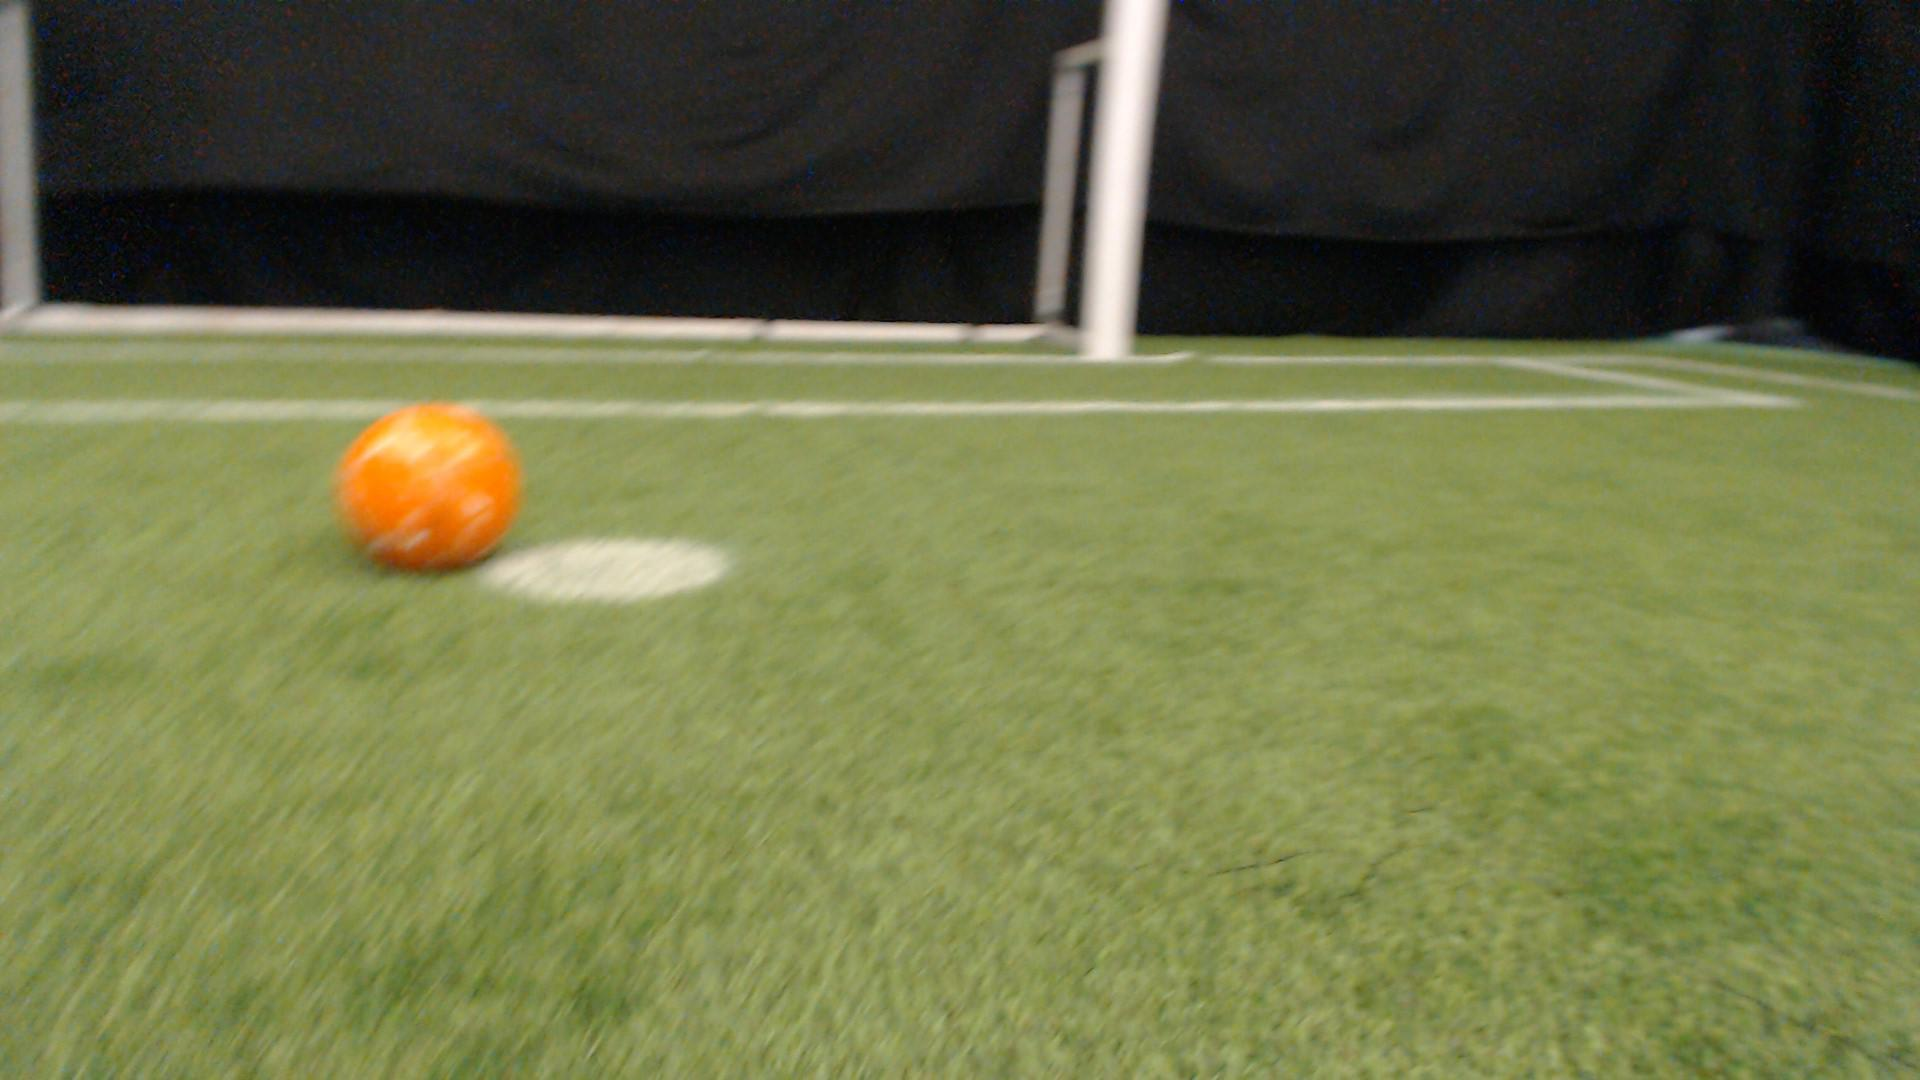bola: (314, 396, 550, 583)
